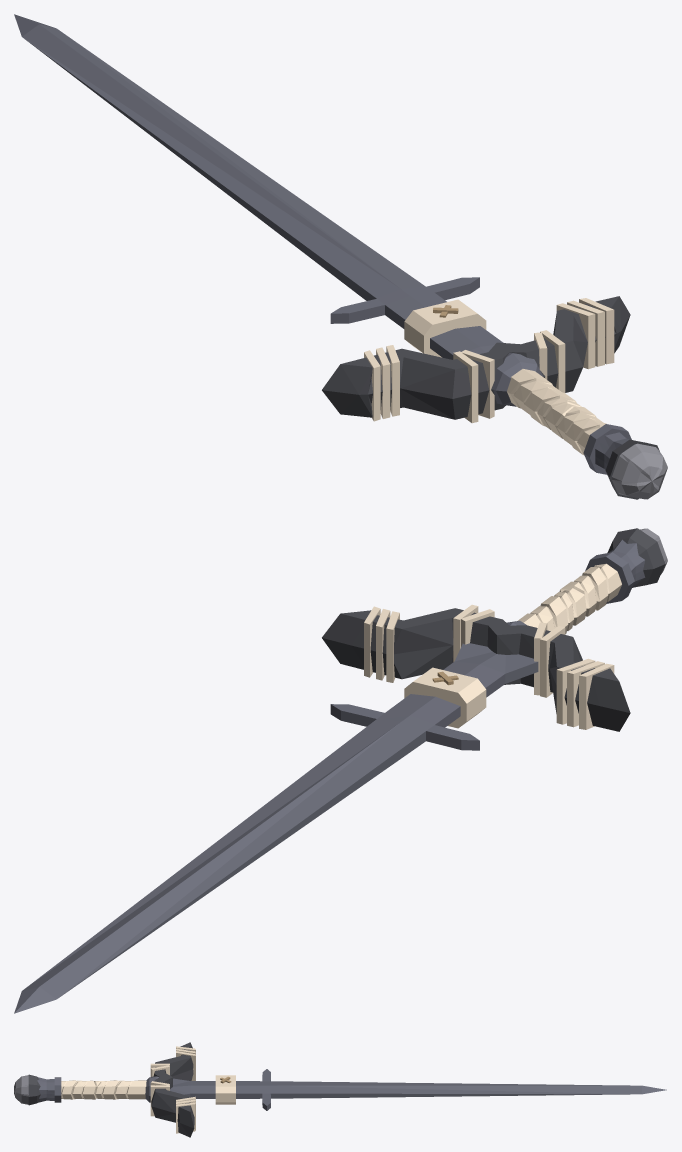
Rendered from sword_16.glb.
3 views of the same model, one above another, from view 1: azimuth 30°, elevation 25°; view 2: azimuth 150°, elevation 25°; view 3: azimuth 270°, elevation 25° (orthographic). The views are drawn at different scales.
Visible parts, largest first — view 1: sword_16; view 2: sword_16; view 3: sword_16.
Part boxes in pixels (x1,y1,x2,y2): sword_16: (14,14,667,499); sword_16: (14,528,667,1013); sword_16: (14,1042,666,1137).
Bounding box in the file's own units: 0.3823 × 0.0688 × 1.37.
Materials: 1 (1 with a texture image).
